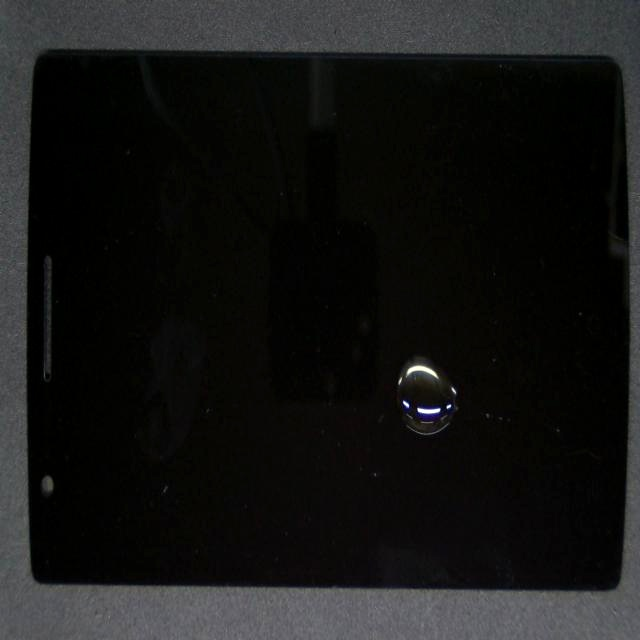oil: (253, 222, 640, 584)
